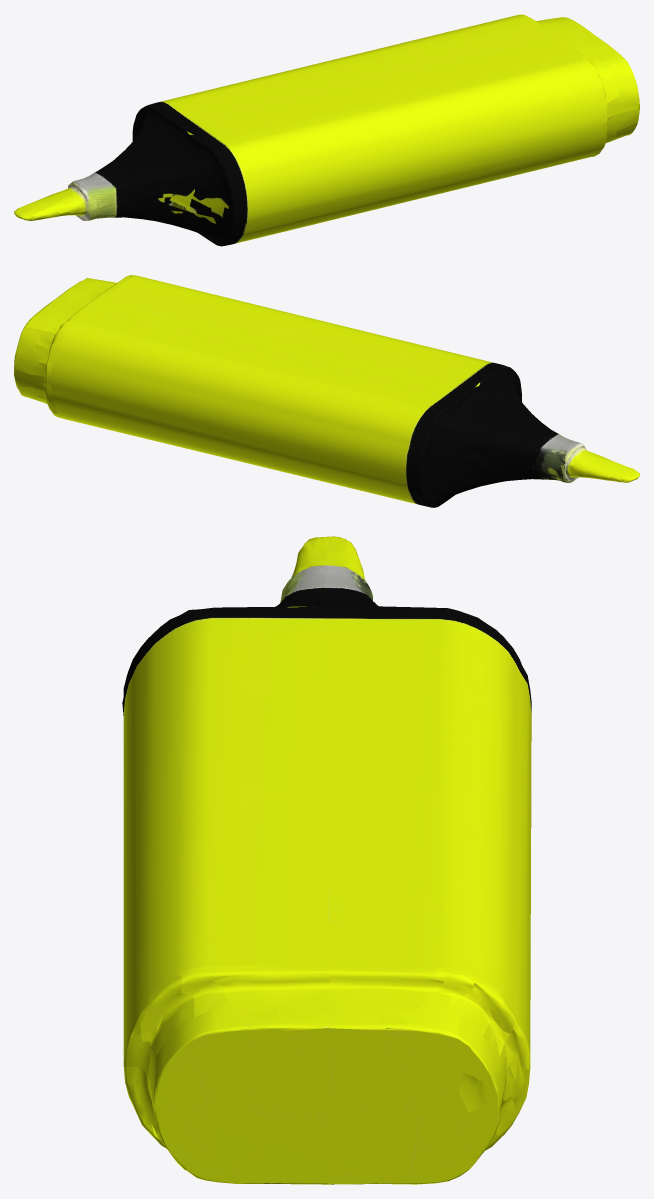
File: highlighter.glb
3 views of the same model, one above another, from view 1: azimuth 30°, elevation 25°; view 2: azimuth 150°, elevation 25°; view 3: azimuth 270°, elevation 25° (orthographic). The views are drawn at different scales.
Bounding box in the file's own units: 1 × 0.1592 × 0.3057.
1 material, 1 textured.
